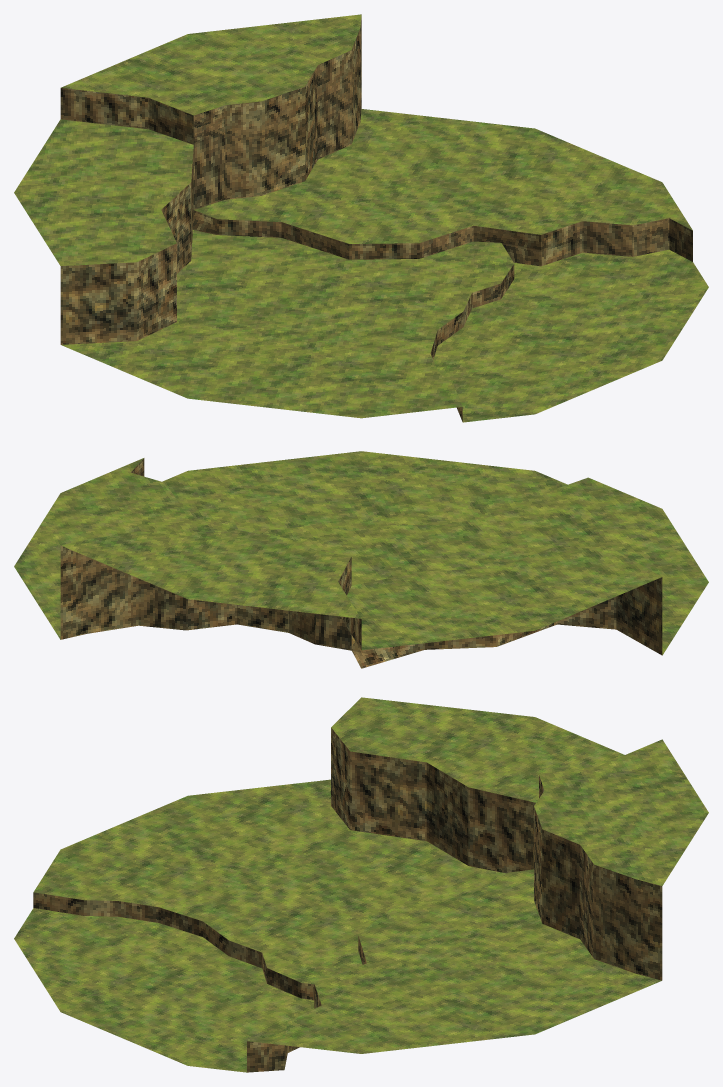
File: Example_Terrain.fbx
3 views of the same model, one above another, from view 1: azimuth 30°, elevation 25°; view 2: azimuth 150°, elevation 25°; view 3: azimuth 270°, elevation 25° (orthographic).
Visible parts, largest first — view 1: Example_Terrain; view 2: Example_Terrain; view 3: Example_Terrain.
Boxes of the visible parts, box(x1,y1,x2,y2) form: Example_Terrain: box(14, 14, 708, 422); Example_Terrain: box(14, 451, 708, 668); Example_Terrain: box(14, 697, 708, 1072).
Bounding box in the file's own units: 8 × 1.6 × 8.
